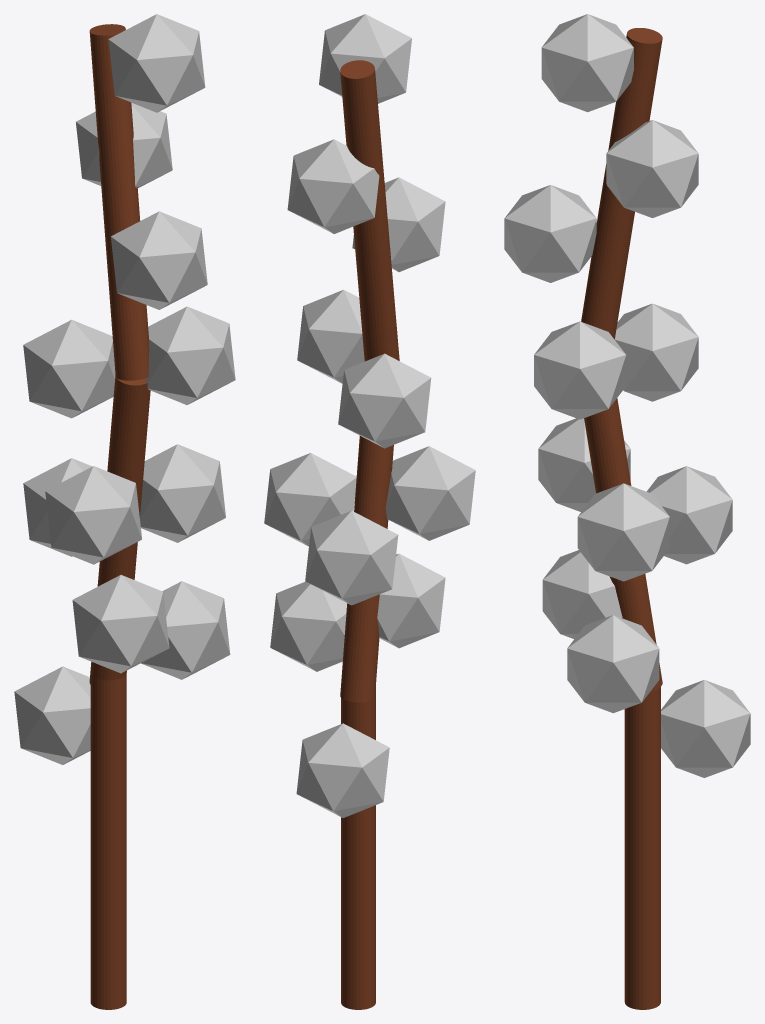
File: Cotton.obj
The picture shows the model from 3 angles, left to right: view 1: azimuth 30°, elevation 25°; view 2: azimuth 150°, elevation 25°; view 3: azimuth 270°, elevation 25°; orthographic projection. The views are drawn at different scales.
Parts seen in each view (by area): view 1: Cylinder_Cylinder.002, Cylinder.002_Cylinder.004, Icosphere.001_Icosphere.086, Icosphere.007_Icosphere.092, Icosphere.010_Icosphere.095, Icosphere.002_Icosphere.087, Icosphere.004_Icosphere.089, Icosphere.006_Icosphere.091, Icosphere.005_Icosphere.090, Icosphere_Icosphere.085, Icosphere.003_Icosphere.088, Cylinder.001_Cylinder.003 (+2 smaller); view 2: Cylinder.002_Cylinder.004, Cylinder_Cylinder.002, Icosphere.009_Icosphere.094, Icosphere_Icosphere.085, Icosphere.004_Icosphere.089, Icosphere.002_Icosphere.087, Icosphere.008_Icosphere.093, Cylinder.001_Cylinder.003, Icosphere.005_Icosphere.090, Icosphere.003_Icosphere.088, Icosphere.010_Icosphere.095, Icosphere.006_Icosphere.091 (+2 smaller); view 3: Cylinder_Cylinder.002, Cylinder.002_Cylinder.004, Icosphere.005_Icosphere.090, Icosphere.006_Icosphere.091, Icosphere.003_Icosphere.088, Icosphere.010_Icosphere.095, Icosphere.007_Icosphere.092, Icosphere_Icosphere.085, Icosphere.008_Icosphere.093, Icosphere.004_Icosphere.089, Icosphere.009_Icosphere.094, Icosphere.001_Icosphere.086 (+2 smaller).
Part boxes in pixels (box(x1,y1,x2,y2)): Cylinder_Cylinder.002: box(90, 674, 126, 1009); Cylinder.002_Cylinder.004: box(89, 24, 149, 380); Icosphere.001_Icosphere.086: box(72, 575, 169, 673); Icosphere.007_Icosphere.092: box(110, 211, 207, 309); Icosphere.010_Icosphere.095: box(108, 14, 205, 112); Icosphere.002_Icosphere.087: box(45, 466, 141, 564); Icosphere.004_Icosphere.089: box(23, 319, 115, 418); Icosphere.006_Icosphere.091: box(144, 306, 235, 404); Icosphere.005_Icosphere.090: box(140, 444, 225, 542); Icosphere_Icosphere.085: box(14, 666, 90, 764); Icosphere.003_Icosphere.088: box(141, 581, 230, 679); Cylinder.001_Cylinder.003: box(89, 375, 150, 686); Cylinder.002_Cylinder.004: box(340, 60, 399, 361); Cylinder_Cylinder.002: box(341, 686, 375, 1009); Icosphere.009_Icosphere.094: box(305, 510, 398, 605); Icosphere_Icosphere.085: box(296, 723, 389, 817); Icosphere.004_Icosphere.089: box(338, 353, 431, 448); Icosphere.002_Icosphere.087: box(385, 446, 475, 540); Icosphere.008_Icosphere.093: box(287, 139, 379, 233); Cylinder.001_Cylinder.003: box(340, 436, 393, 702); Icosphere.005_Icosphere.090: box(264, 453, 356, 546); Icosphere.003_Icosphere.088: box(270, 581, 346, 671); Icosphere.010_Icosphere.095: box(319, 14, 411, 103); Icosphere.006_Icosphere.091: box(297, 289, 364, 383); Cylinder_Cylinder.002: box(624, 687, 660, 1009); Cylinder.002_Cylinder.004: box(581, 28, 662, 339); Icosphere.005_Icosphere.090: box(577, 483, 669, 581); Icosphere.006_Icosphere.091: box(534, 321, 626, 419); Icosphere.003_Icosphere.088: box(567, 615, 659, 713); Icosphere.010_Icosphere.095: box(541, 14, 633, 112); Icosphere.007_Icosphere.092: box(504, 185, 596, 282); Icosphere_Icosphere.085: box(661, 680, 750, 777); Icosphere.008_Icosphere.093: box(606, 120, 698, 217); Icosphere.004_Icosphere.089: box(614, 303, 698, 401); Icosphere.009_Icosphere.094: box(646, 466, 732, 564); Icosphere.001_Icosphere.086: box(542, 550, 622, 638).
Bounding box in the file's own units: 1.19 × 6.09 × 1.36.
